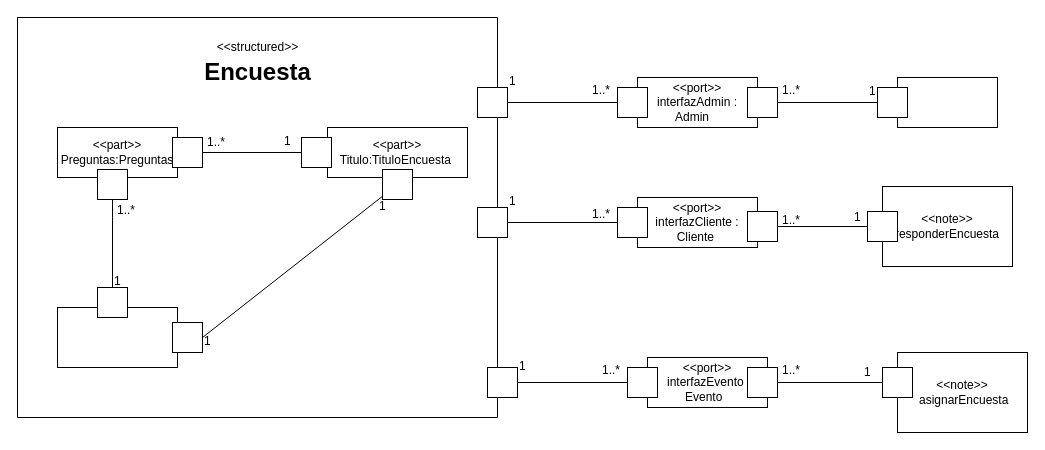
The diagram is 1045 pixels wide and 450 high, and some of its shapes have lost their labels. The centre of each missing label's shape, as x and y in pixels:
"<<note>> crearEncuesta Estado Encuesta" belongs at point 947,102.
"<<part>> D escripcion: DescripcionEncuesta" belongs at point 117,337.
